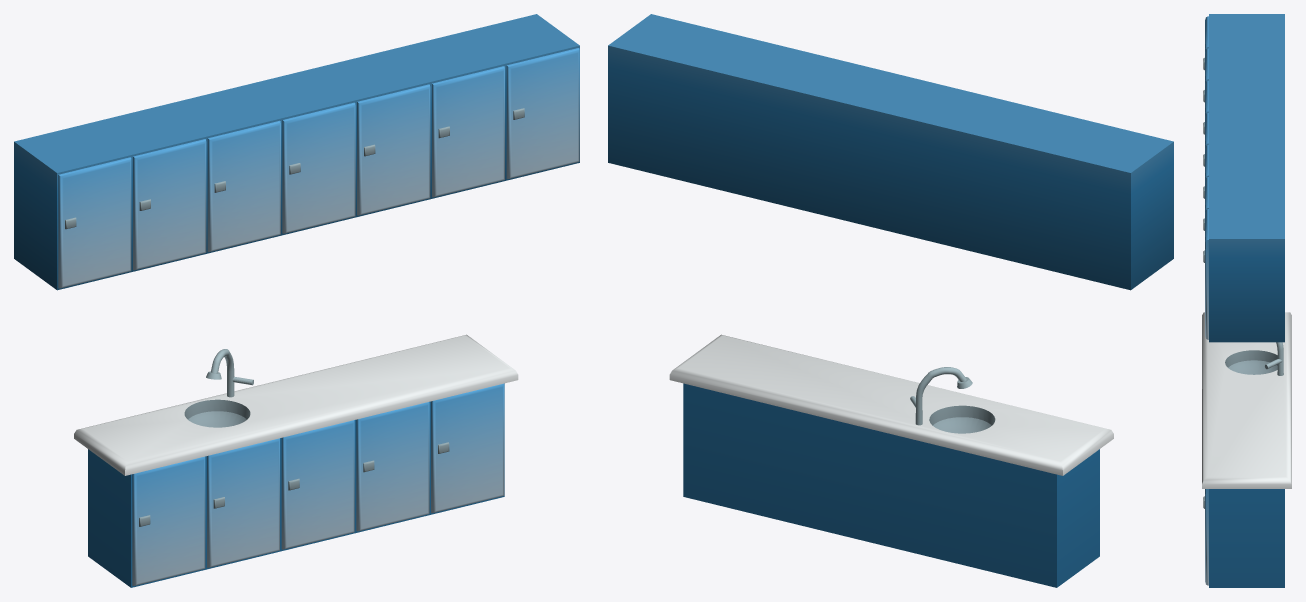
File: Kitchen-Countertops.fbx
3 views of the same model, side by side, from view 1: azimuth 30°, elevation 25°; view 2: azimuth 150°, elevation 25°; view 3: azimuth 270°, elevation 25° (orthographic). The views are drawn at different scales.
Parts seen in each view (by area): view 1: Kitchen-Countertops; view 2: Kitchen-Countertops; view 3: Kitchen-Countertops.
Boxes of the visible parts, box(x1,y1,x2,y2) form: Kitchen-Countertops: box(14, 14, 579, 587); Kitchen-Countertops: box(608, 14, 1173, 587); Kitchen-Countertops: box(1202, 14, 1291, 587).
Bounding box in the file's own units: 4.61 × 3.65 × 0.778.
